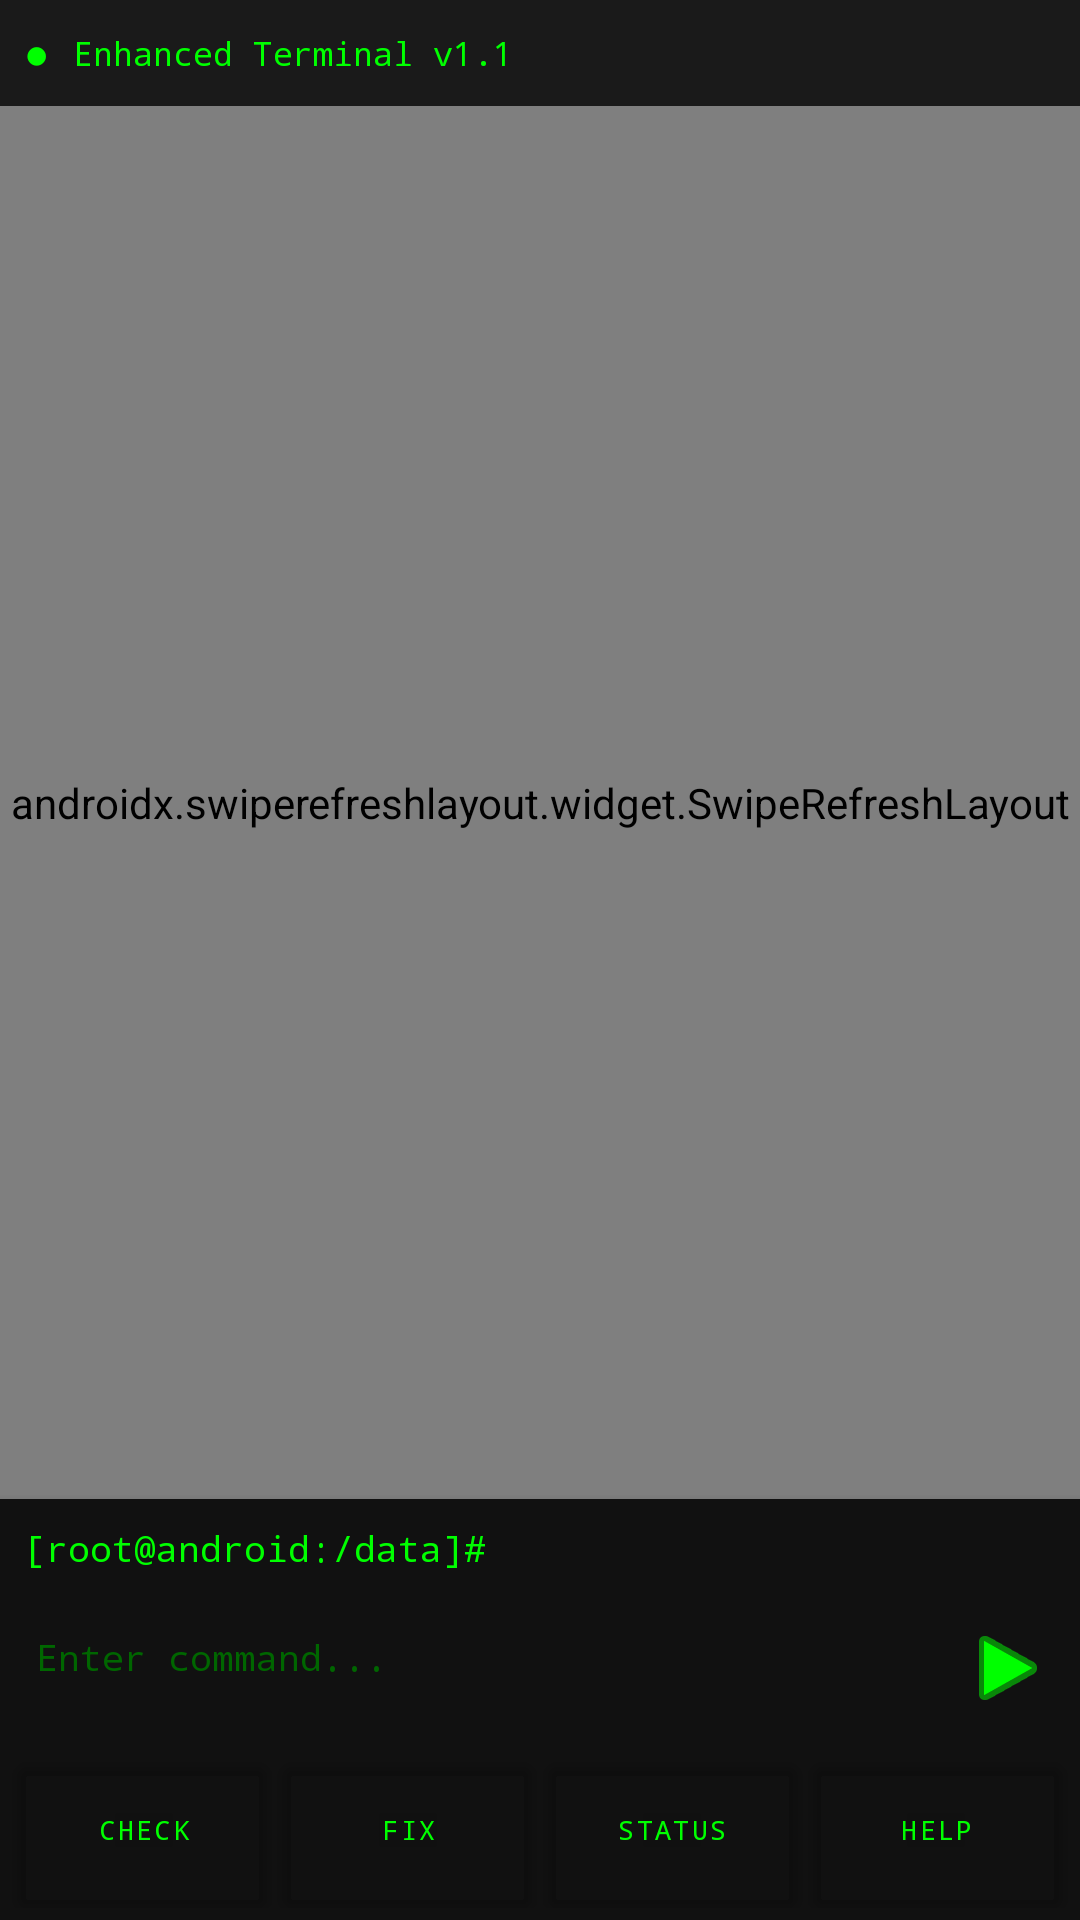

Screen size 1080px×1920px. Icon name, then its box in pixels as bbox(x1, y1, x2, y2):
Execute command: bbox(979, 1636, 1037, 1700)
